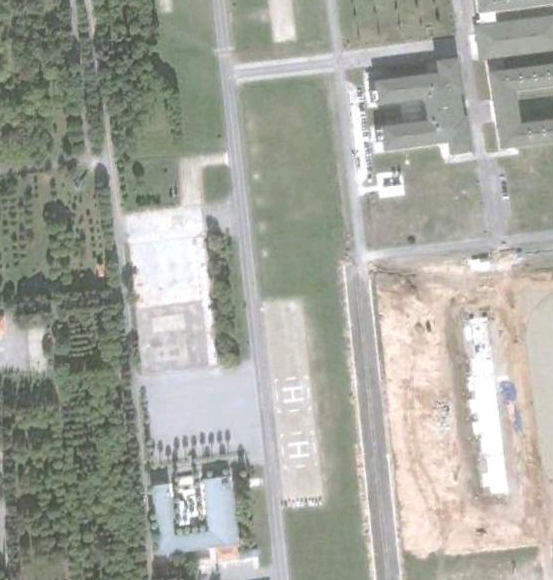heliport: (286, 439, 311, 461), (279, 384, 305, 403)
